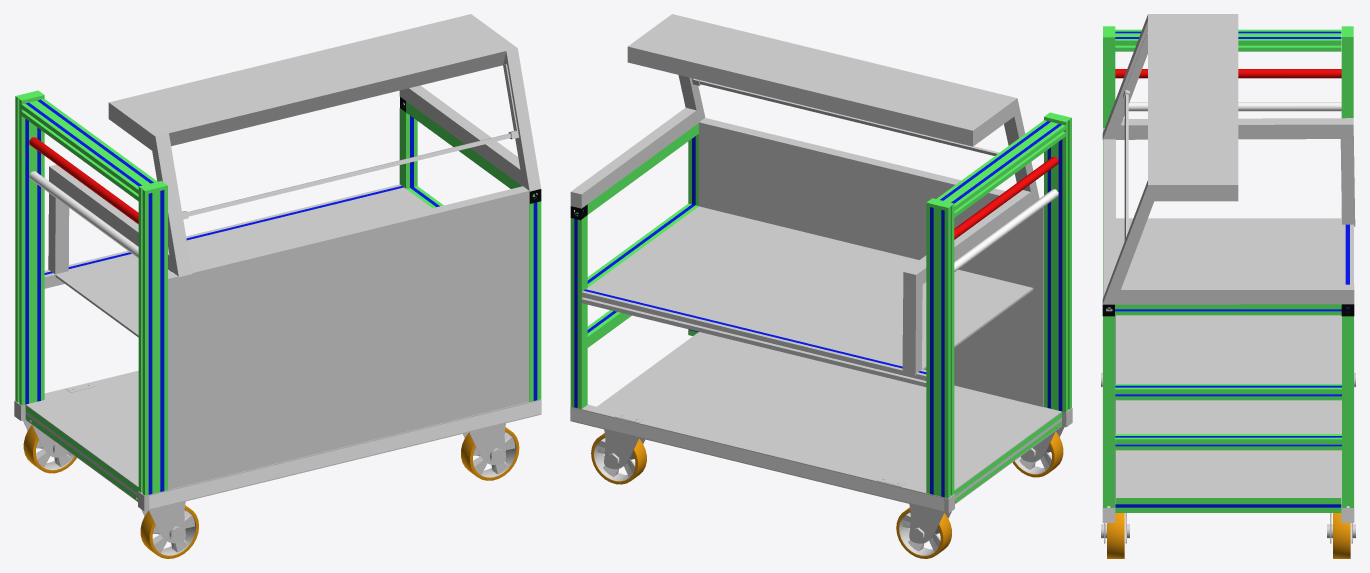
Rendered from RC10 Ausgabetheke.FBX.
3 views of the same model, side by side, from view 1: azimuth 30°, elevation 25°; view 2: azimuth 150°, elevation 25°; view 3: azimuth 270°, elevation 25° (orthographic). The views are drawn at different scales.
Visible parts, largest first — view 1: Trolly_2; view 2: Trolly_2; view 3: Trolly_2.
Part boxes in pixels (x1,y1,x2,y2): Trolly_2: (14, 14, 541, 558); Trolly_2: (570, 14, 1072, 558); Trolly_2: (1101, 14, 1355, 558).
Bounding box in the file's own units: 13.61 × 13.28 × 7.82.
